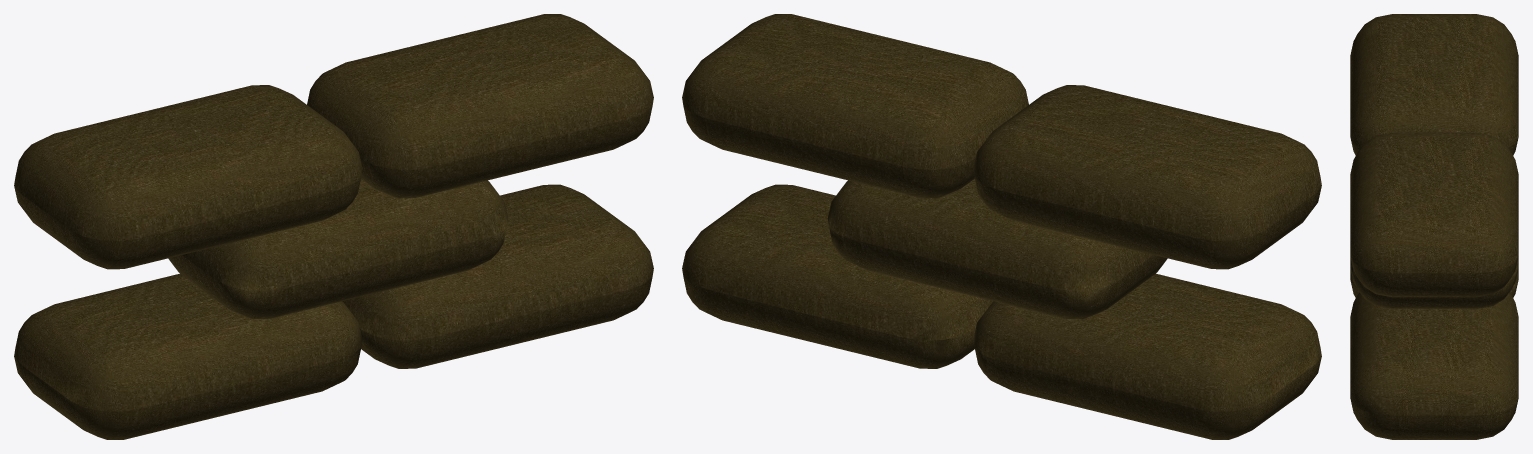
File: obj_sandbags.glb
The picture shows the model from 3 angles, left to right: view 1: azimuth 30°, elevation 25°; view 2: azimuth 150°, elevation 25°; view 3: azimuth 270°, elevation 25°; orthographic projection. The views are drawn at different scales.
Parts seen in each view (by area): view 1: sandbags_body; view 2: sandbags_body; view 3: sandbags_body.
Part boxes in pixels (x1=…): sandbags_body: x1=14, y1=14, x2=653, y2=439; sandbags_body: x1=682, y1=14, x2=1321, y2=439; sandbags_body: x1=1350, y1=14, x2=1518, y2=439.
Bounding box in the file's own units: 0.99 × 0.43 × 0.3.
1 material, 1 textured.
